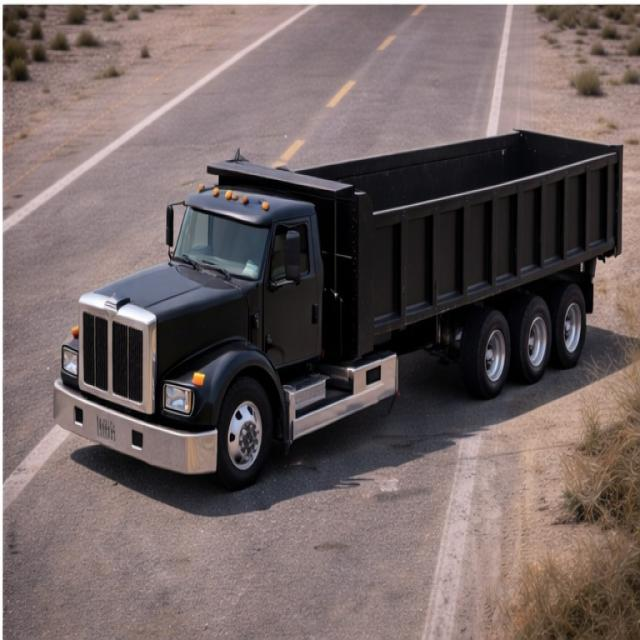Box: (209, 130, 623, 230)
Truck: (52, 111, 630, 482)
